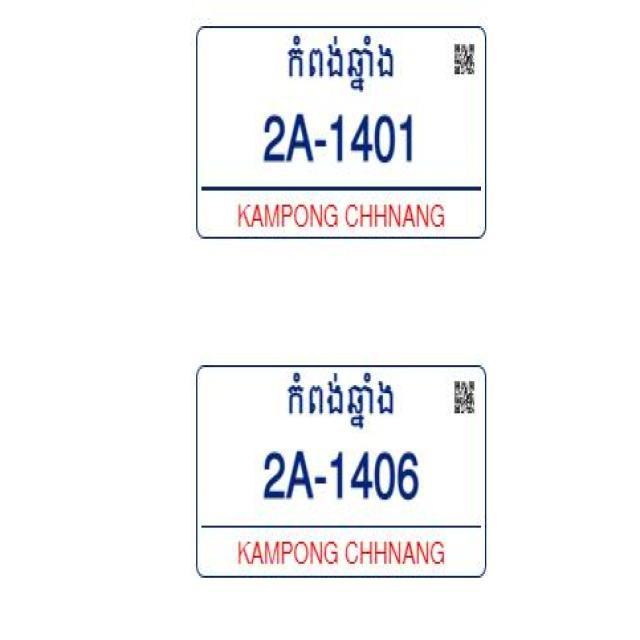Kampong_Chhnang: (278, 361, 399, 434), (286, 28, 396, 96)
